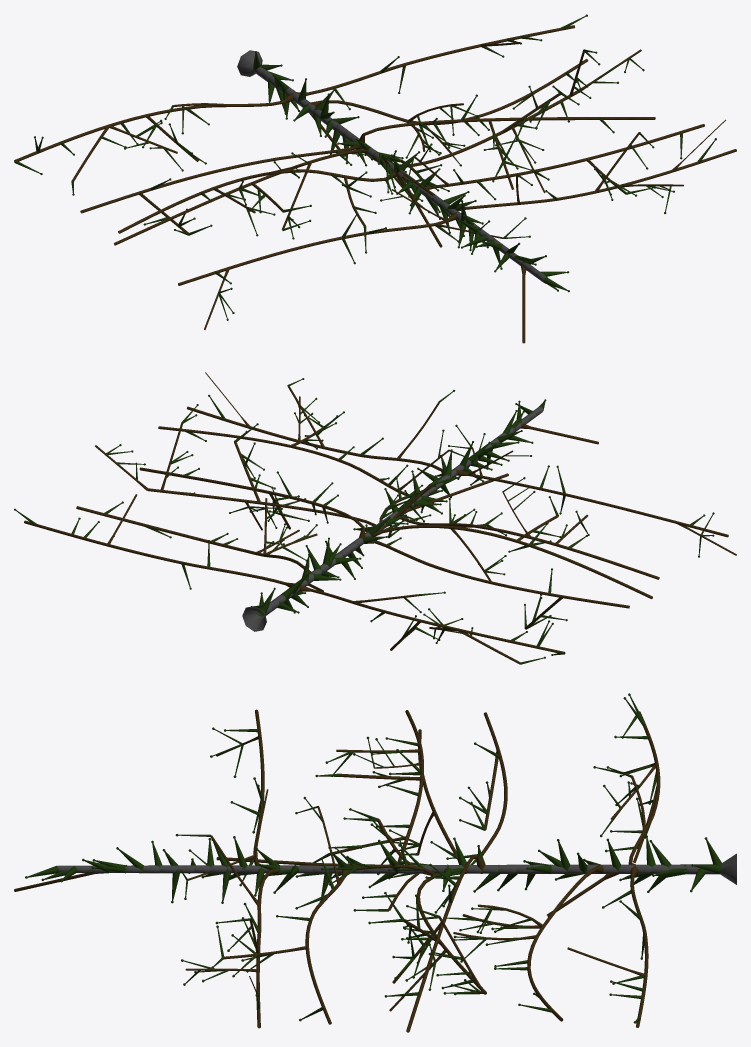
File: tree_12.obj
3 renders of one model, top to bottom at view 1: azimuth 30°, elevation 25°; view 2: azimuth 150°, elevation 25°; view 3: azimuth 270°, elevation 25°, orthographic. The views are drawn at different scales.
Size of the model in its own units: 4.48 by 0.9076 by 4.26.
